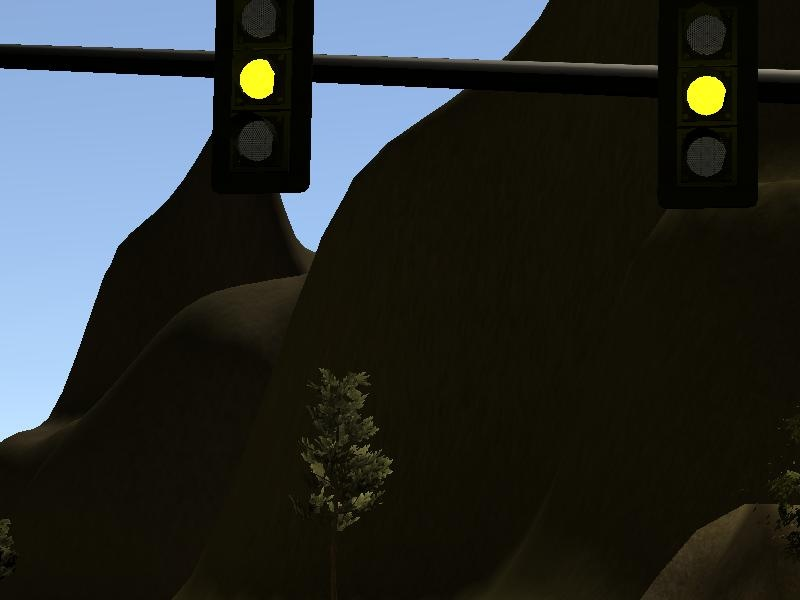yellow: (648, 1, 766, 218), (205, 1, 321, 199)
